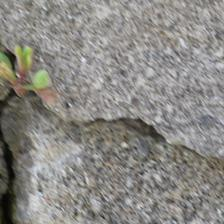Crack: (43, 53, 176, 115)
